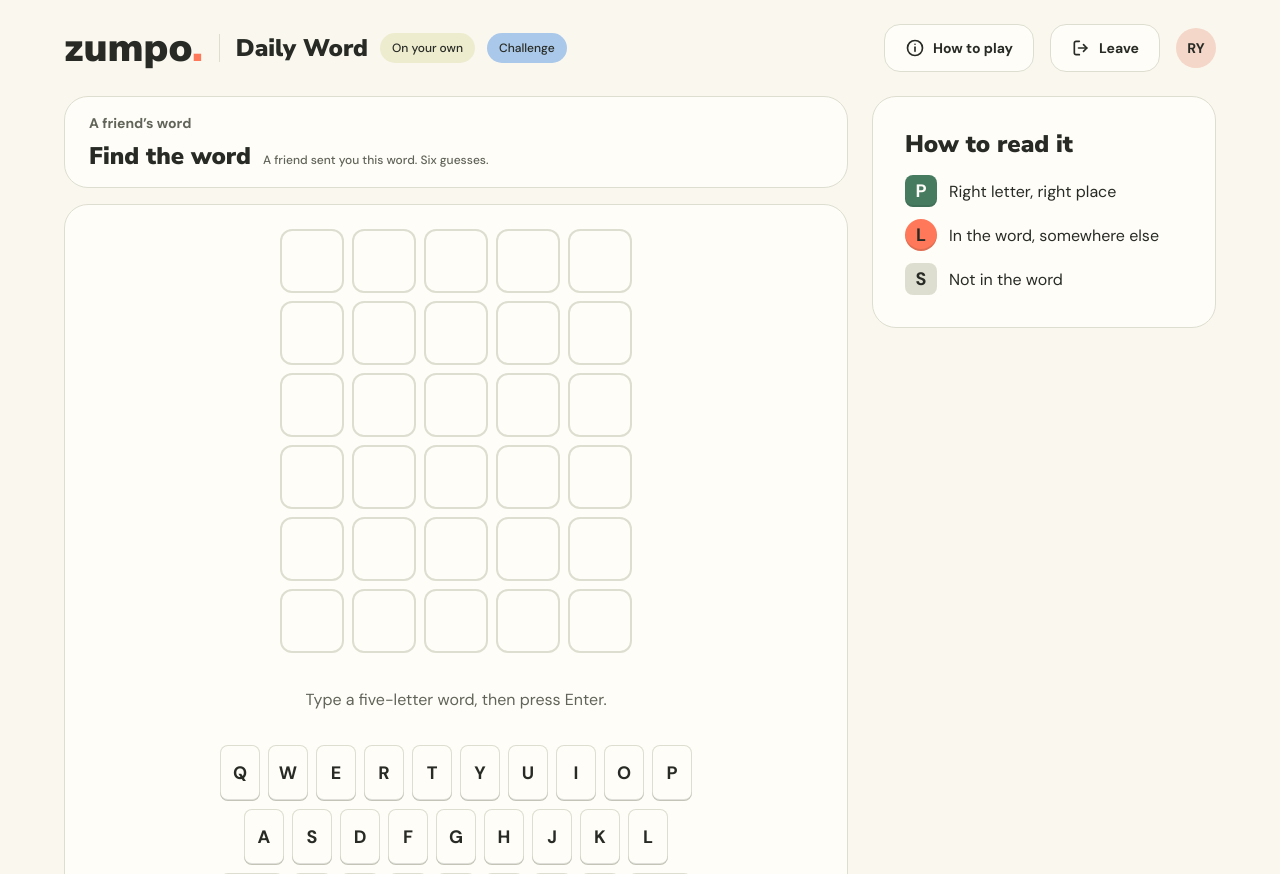
it: Daily Word on your own › plays a challenge link’s word, then offers today’s
Expected: the text "A friend’s word" is shown, [89,114,191,132]
Type keys "vapor{Enter}"
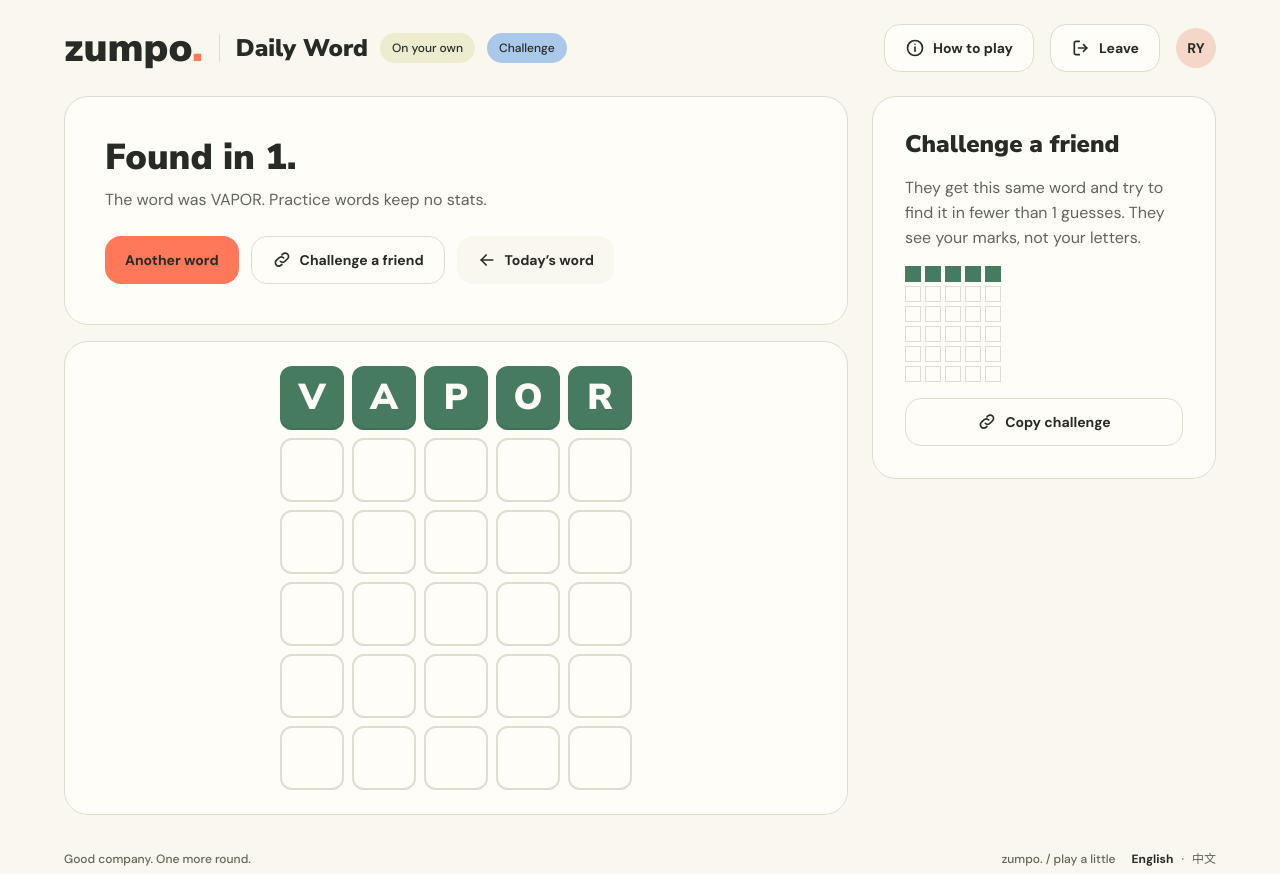
Expected: the heading "Found in 1." is shown, [105,133,297,182]
Click the button "Today’s word": click(535, 260) [457,236,614,284]
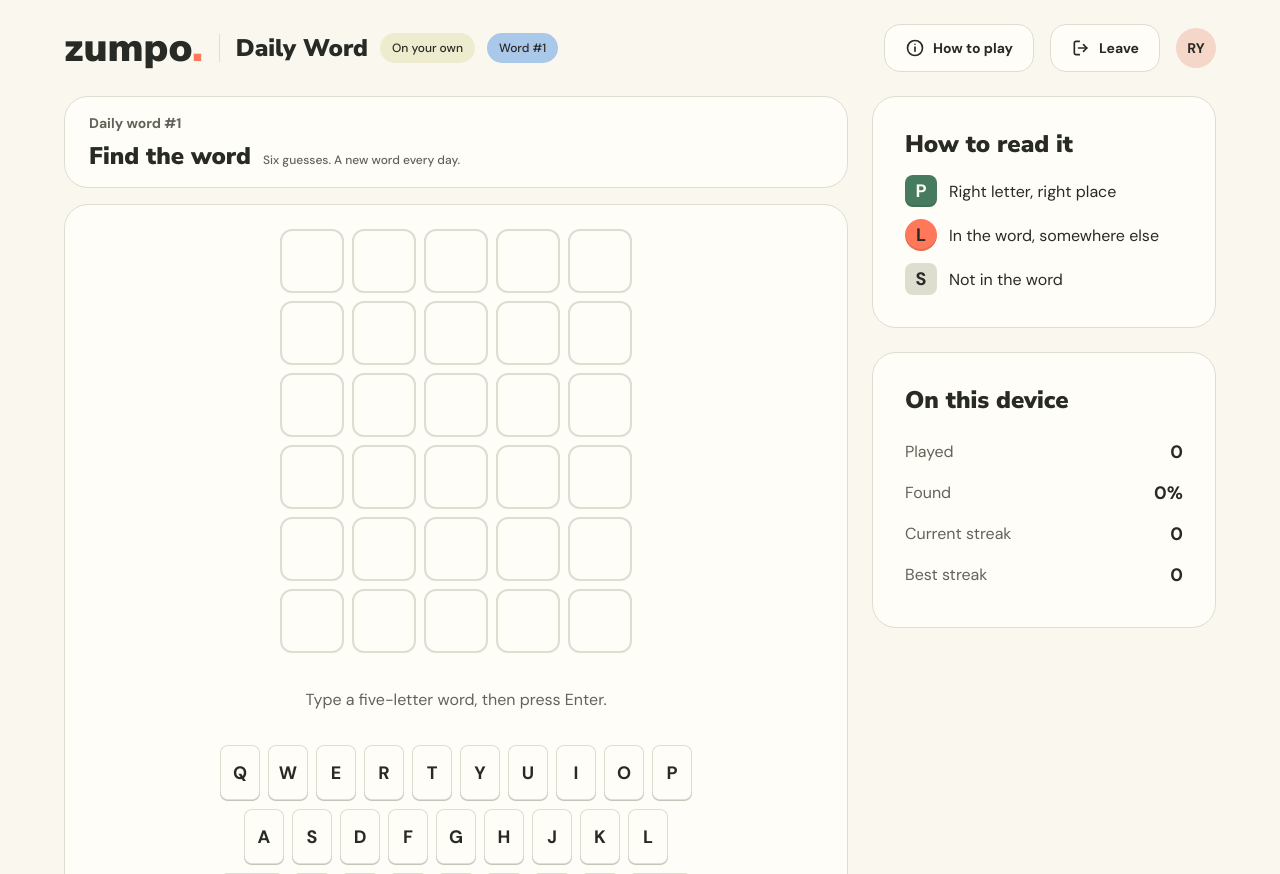
Expected: the text "Find the word" is shown, [89,141,251,171]
Expected: the text "Word #1" is shown, [499,39,546,57]
